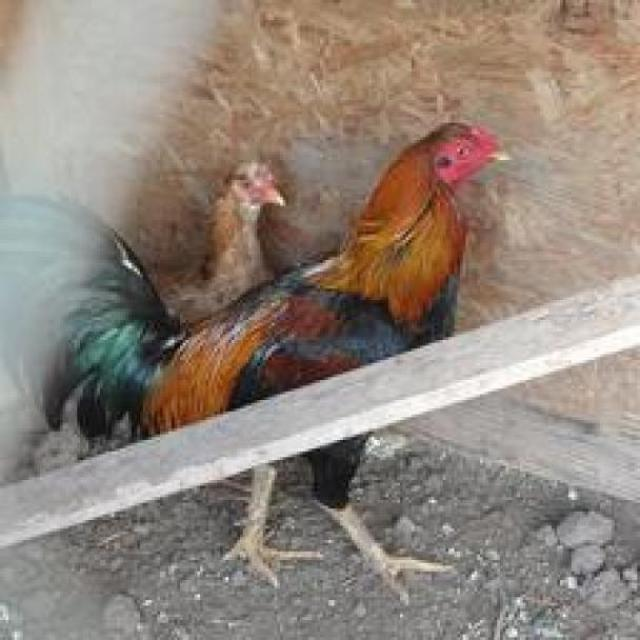Chicken: (17, 124, 511, 592)
